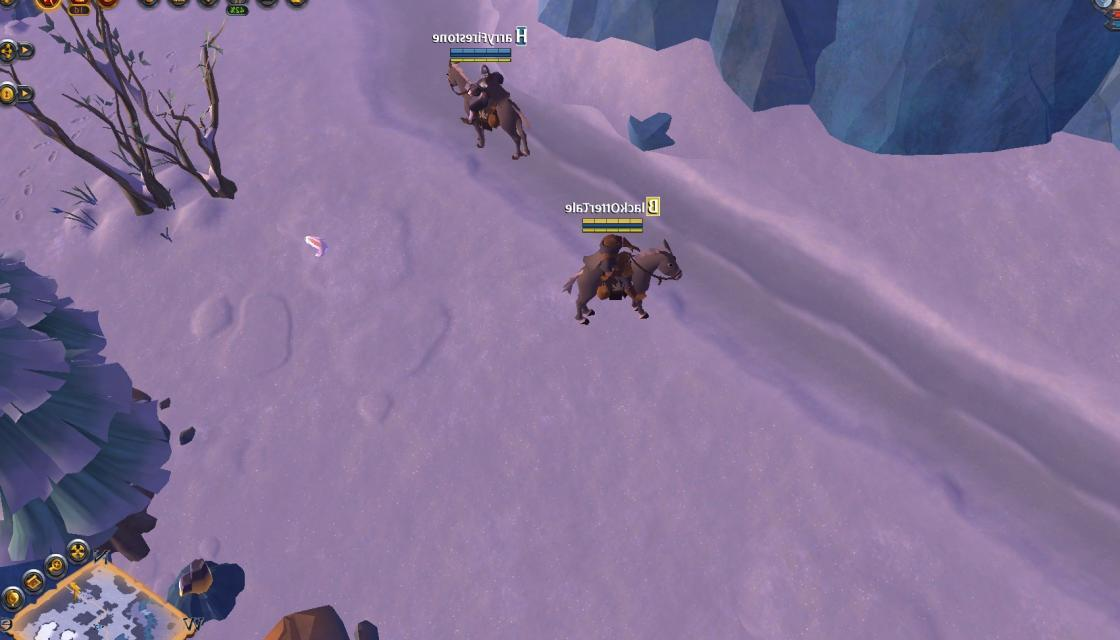copperore: (172, 550, 248, 623)
limestone: (250, 601, 376, 640)
